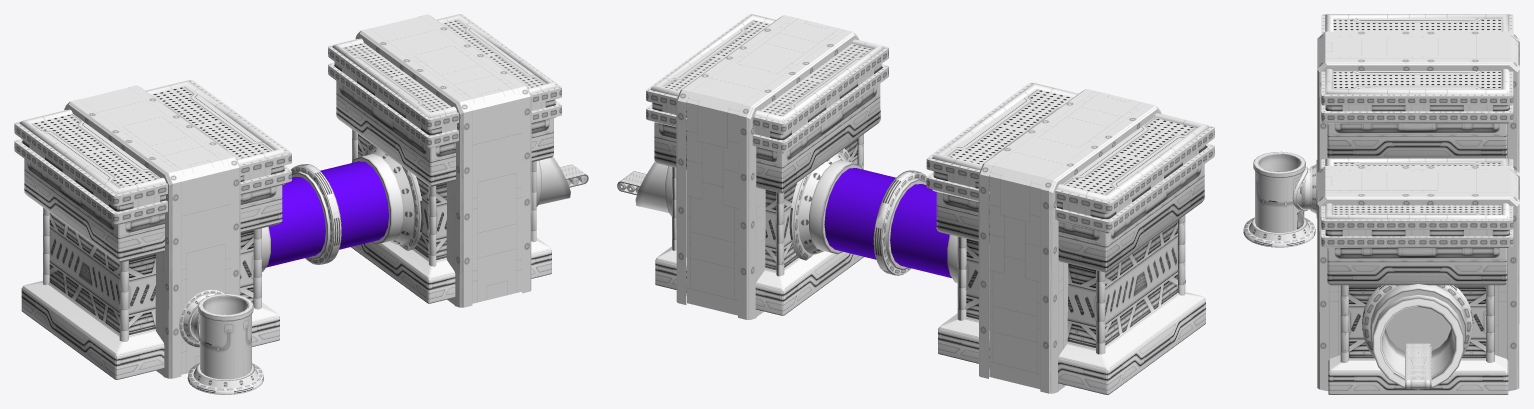
The model's file is Folder_V4.FBX.
3 renders of one model, left to right at view 1: azimuth 30°, elevation 25°; view 2: azimuth 150°, elevation 25°; view 3: azimuth 270°, elevation 25°, orthographic. The views are drawn at different scales.
Parts seen in each view (by area): view 1: Folder_Body, Folder_Glass; view 2: Folder_Body, Folder_Glass; view 3: Folder_Body.
Part boxes in pixels (x1,y1,x2,y2): Folder_Body: (14,14,588,394); Folder_Glass: (266,161,388,267); Folder_Body: (617,14,1214,394); Folder_Glass: (824,168,951,278); Folder_Body: (1243,14,1519,394).
Size of the model in its own units: 492 by 186 by 240.
